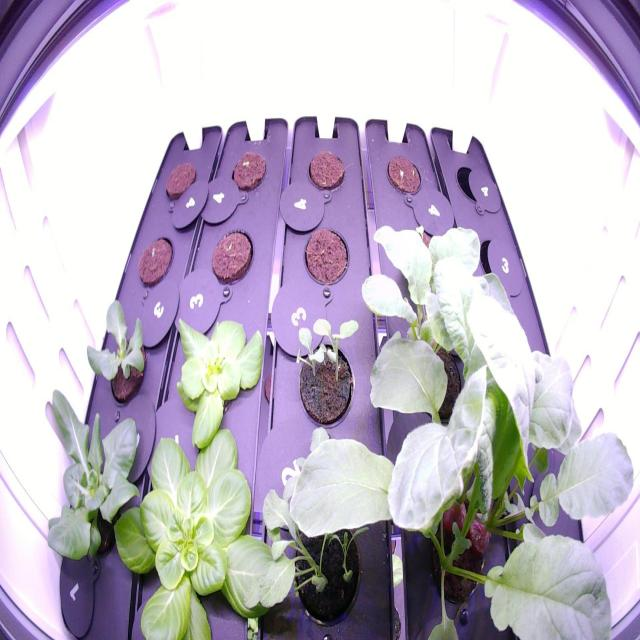empty_pod: (473, 232, 525, 302), (450, 154, 494, 212)
germination: (287, 312, 365, 433), (383, 144, 428, 202), (225, 142, 270, 196)
pod: (296, 215, 354, 298), (204, 219, 258, 290), (133, 224, 179, 299), (302, 142, 352, 202), (160, 154, 203, 208)
young: (102, 406, 302, 639), (30, 362, 176, 608), (156, 300, 274, 455), (73, 284, 163, 420)
